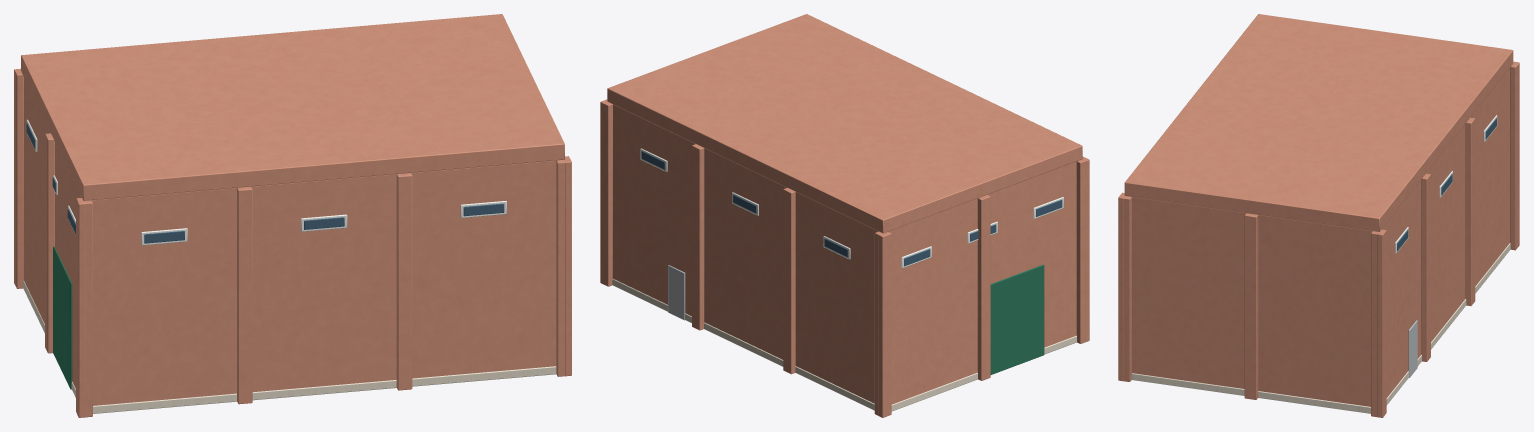
The model's file is Batiment_bloc_2.glb.
The picture shows the model from 3 angles, left to right: view 1: azimuth 30°, elevation 25°; view 2: azimuth 150°, elevation 25°; view 3: azimuth 270°, elevation 25°; orthographic projection. The views are drawn at different scales.
Parts seen in each view (by area): view 1: Batiment_bloc_2_mur, Batiment_bloc_2_band, Batiment_bloc_2_pverte, Batiment_bloc_2_vitre, Batiment_bloc_2_cadre; view 2: Batiment_bloc_2_mur, Batiment_bloc_2_pverte, Batiment_bloc_2_band, Batiment_bloc_2_vitre, Batiment_bloc_2_cadre, Batiment_bloc_2_pgris; view 3: Batiment_bloc_2_mur, Batiment_bloc_2_band, Batiment_bloc_2_pgris.
Boxes of the visible parts, x1,y1,x2,y2 form: Batiment_bloc_2_mur: (14,14,571,417); Batiment_bloc_2_band: (23,281,556,413); Batiment_bloc_2_pverte: (53,246,72,389); Batiment_bloc_2_vitre: (26,123,504,243); Batiment_bloc_2_cadre: (26,119,506,245); Batiment_bloc_2_mur: (600,14,1089,417); Batiment_bloc_2_pverte: (990,264,1044,374); Batiment_bloc_2_band: (612,279,1076,411); Batiment_bloc_2_vitre: (641,151,1062,266); Batiment_bloc_2_cadre: (640,148,1063,268); Batiment_bloc_2_pgris: (668,265,685,320); Batiment_bloc_2_mur: (1118,14,1519,417); Batiment_bloc_2_band: (1131,243,1510,413); Batiment_bloc_2_pgris: (1408,320,1417,377).
Bounding box in the file's own units: 19.66 × 8.6 × 15.87.
Materials: 7 (7 with a texture image).
